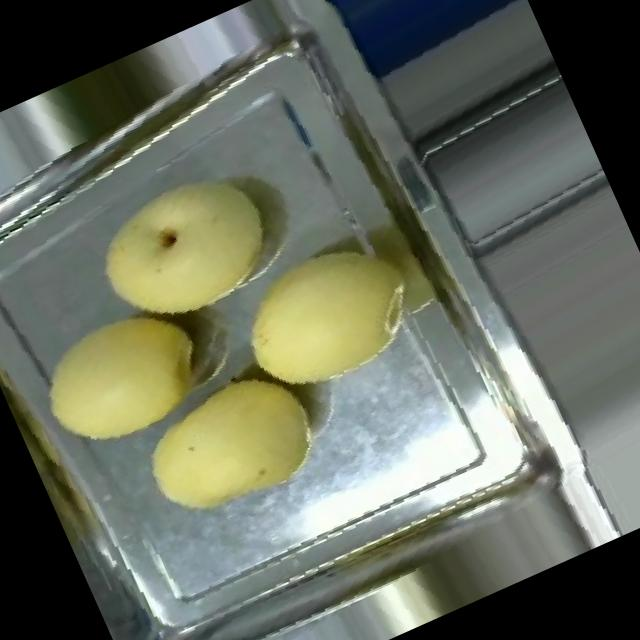Fruit: (57, 136, 307, 366), (2, 270, 236, 485), (110, 338, 340, 546), (206, 209, 430, 420)
